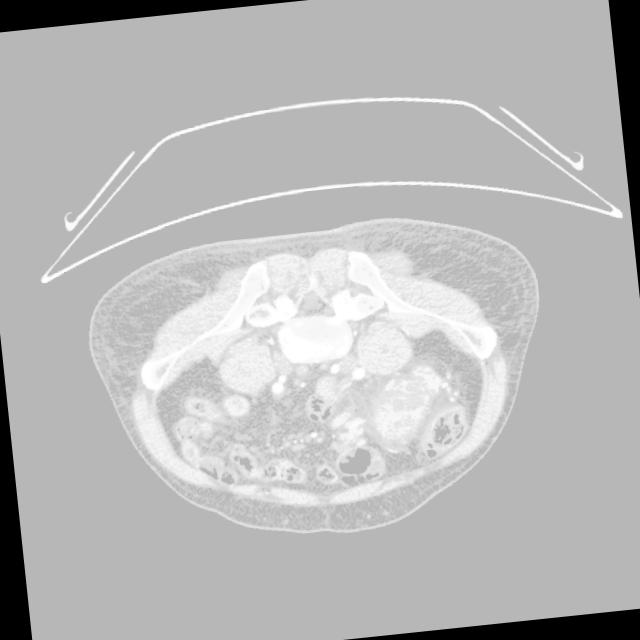TUMOR: (165, 324, 531, 532)
